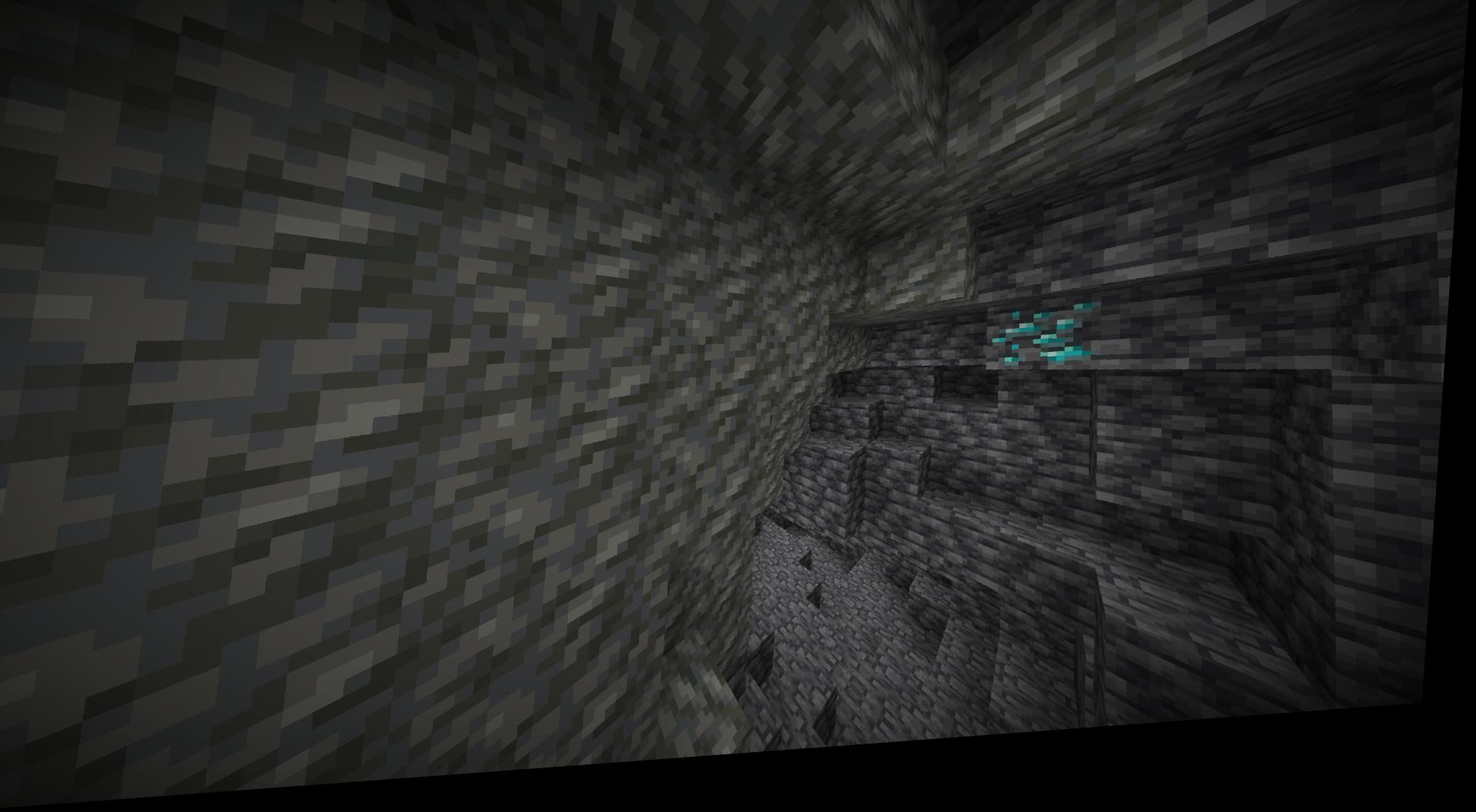diamond ore: (988, 316, 1105, 399)
